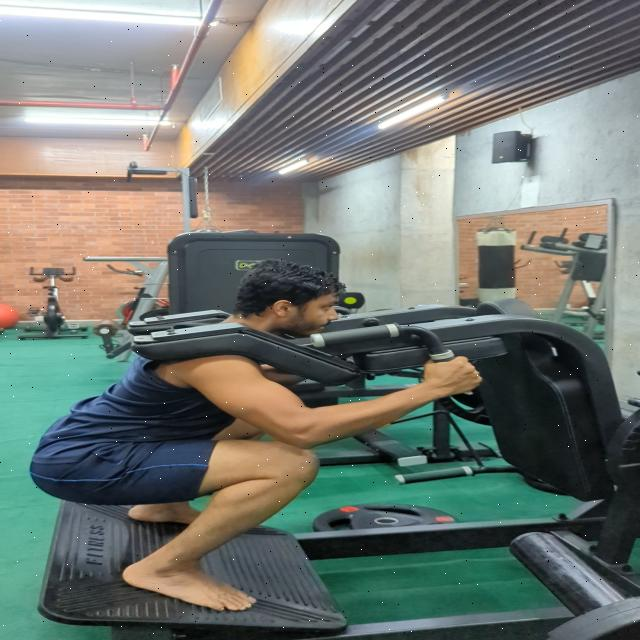Normal_SquatsWithBarbell: (22, 154, 496, 624)
